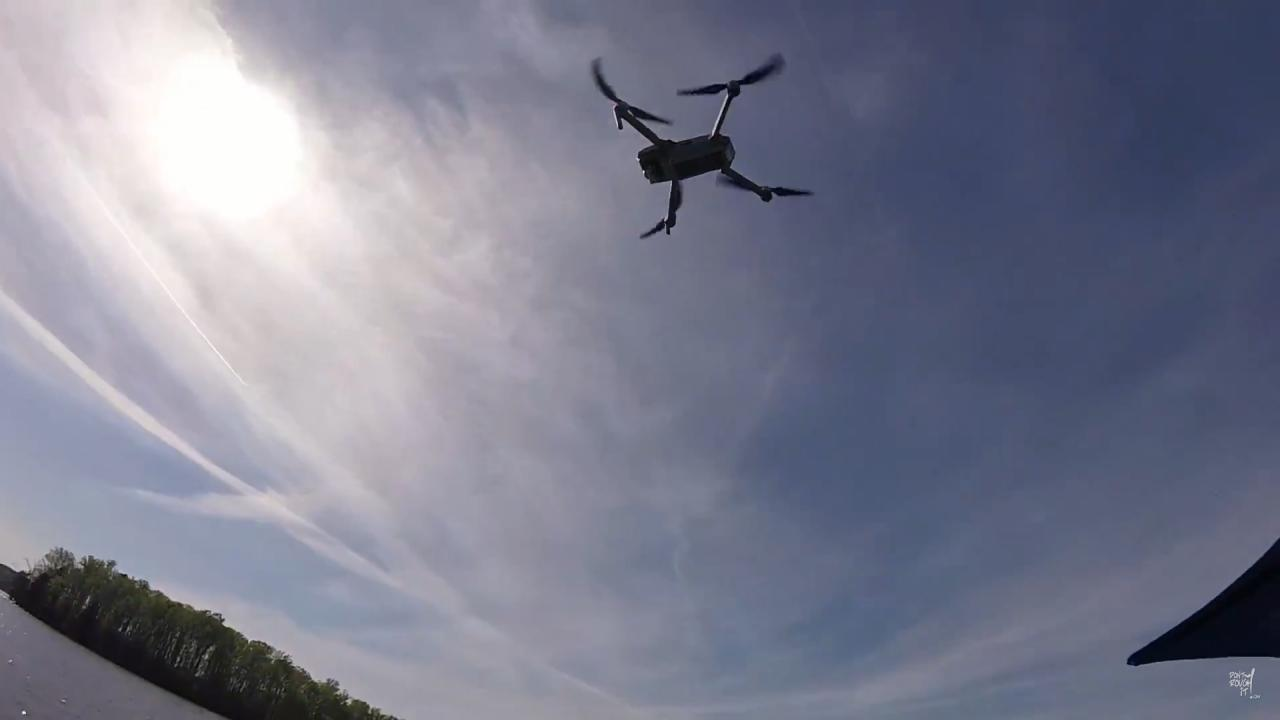Drone: (579, 37, 827, 250)
